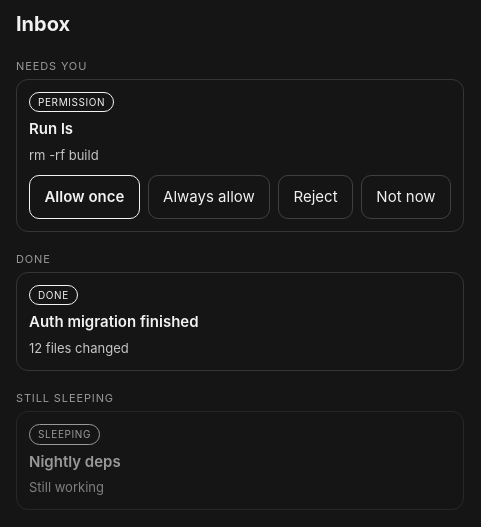
Scenario: opening a card › follows the thread while it is open, without drawing anything twice
Click the button "Run ls". click: point(51, 129)
box: x1=29 y1=118 x2=451 y2=140
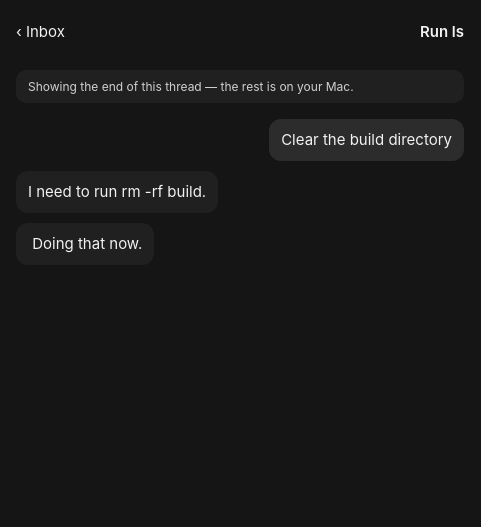
Expected: the list item "Doing that now." is shown, x1=16 y1=223 x2=154 y2=265
Expected: the number of list items "I need to run rm -rf build." is 1, x1=16 y1=171 x2=218 y2=213
